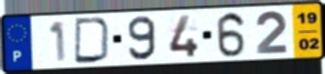1: (47, 20, 68, 65)
2: (255, 9, 291, 57)
4: (168, 13, 201, 59)
6: (215, 10, 248, 59)
9: (127, 15, 158, 62)
D: (73, 16, 114, 65)
